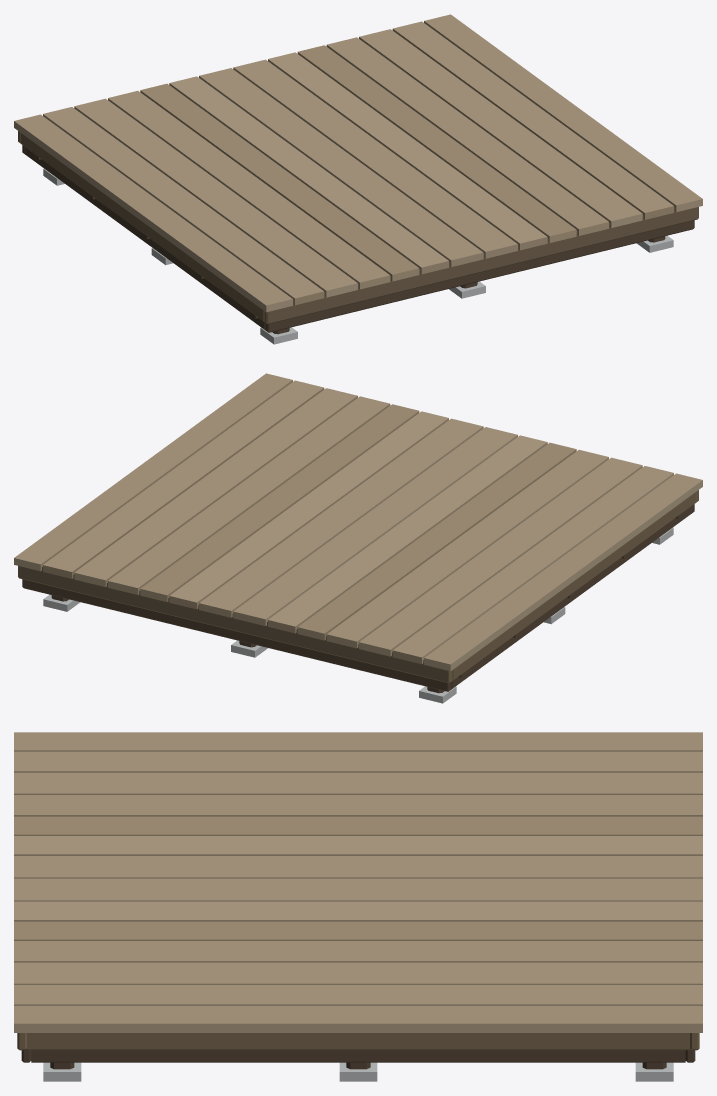
Rendered from backyard-deck-module-17ae3a.glb.
3 renders of one model, top to bottom at view 1: azimuth 30°, elevation 25°; view 2: azimuth 150°, elevation 25°; view 3: azimuth 270°, elevation 25°, orthographic. The views are drawn at different scales.
Visible parts, largest first — view 1: backyard-deck-module; view 2: backyard-deck-module; view 3: backyard-deck-module.
Boxes of the visible parts, box(x1,y1,x2,y2) form: backyard-deck-module: box(14, 14, 702, 344); backyard-deck-module: box(14, 373, 702, 703); backyard-deck-module: box(14, 732, 702, 1081).
Bounding box in the file's own units: 4 × 0.45 × 4.
